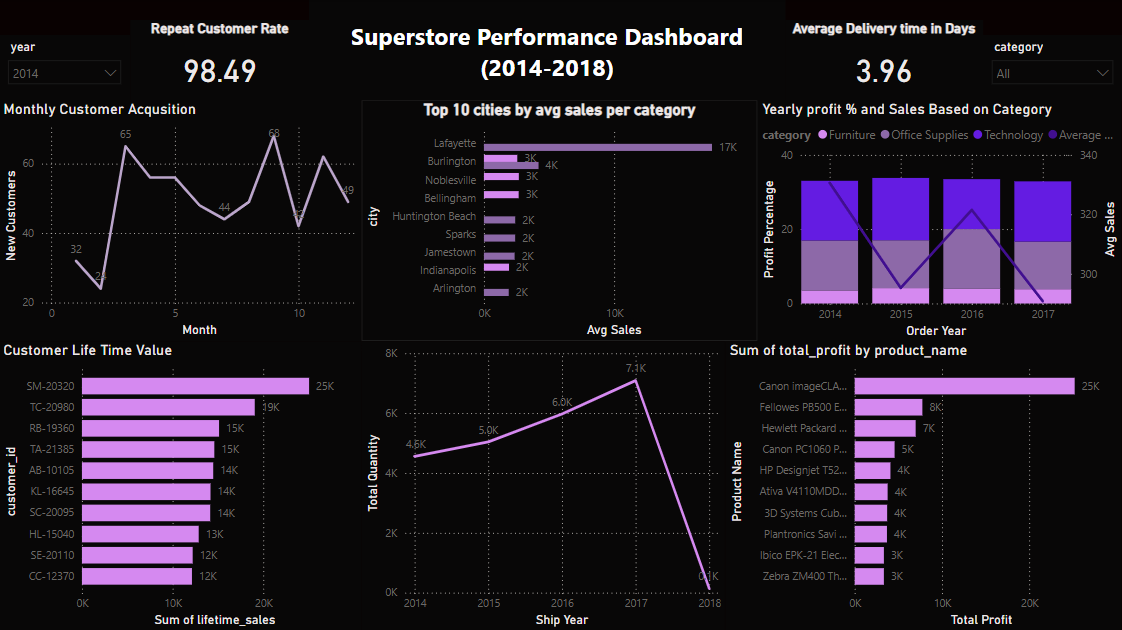

This screenshot's page, from the dashboard's own definition file:
{"tool":"powerbi","page":{"name":"T","canvas":[1280,720],"ordinal":0},"visuals":[{"type":"card","title":"Average Delivery time in Days","fields":{"Values":["Avg(avg_delivery_time.delivery_time)"]},"box":[896.6,22.8,225.2,91.2],"z":0},{"type":"barChart","title":"Customer Life Time Value","fields":{"Category":["customer_lifeyime_value.customer_id"],"Y":["Sum(customer_lifeyime_value.lifetime_sales)"]},"box":[0,389.1,413.4,330.7],"z":1000},{"type":"lineChart","fields":{"Category":["Top Ship Mode by Volume Per Year.ship_year"],"Series":["Top Ship Mode by Volume Per Year.ship_mode"],"Y":["Sum(Top Ship Mode by Volume Per Year.total_quantity)"]},"box":[413.4,389.1,414.8,330.7],"z":2000},{"type":"lineChart","title":"Monthly Customer Acqusition","fields":{"Category":["montlhy new customers.month"],"Y":["Sum(montlhy new customers.new_customers)"]},"box":[0,114,413.4,275.1],"z":3000},{"type":"card","title":"Repeat Customer Rate","fields":{"Values":["Sum(repeat customer rate pct.repeat_customer_rate_pct)"]},"box":[149.6,23.3,204.5,91.9],"z":4000},{"type":"clusteredBarChart","title":"Top 10 cities by avg sales per  category","fields":{"Category":["Top 10 cities by average sales in each category.city"],"Y":["Avg(Top 10 cities by average sales in each category.avg_sales)"],"Series":["Top 10 cities by average sales in each category.category"]},"box":[413.4,114,451.8,275.1],"z":5000},{"type":"clusteredBarChart","fields":{"Category":["Top_10_most_profitable_products.product_name"],"Y":["Sum(Top_10_most_profitable_products.total_profit)"]},"box":[828.2,389.1,451.8,330.7],"z":6000},{"type":"lineStackedColumnComboChart","title":"Yearly profit % and Sales Based on Category","fields":{"Category":["Yearly _sales_based_ON_categorty.order_year"],"Y2":["Avg(Yearly _sales_based_ON_categorty.avg_sales)"],"Series":["Yearly _sales_based_ON_categorty.category"],"Y":["Avg(Yearly _sales_based_ON_categorty.avg_profit_pct)"]},"box":[865.9,113.9,414.4,275.8],"z":7000},{"type":"slicer","fields":{"Values":["Yearly _sales_based_ON_categorty.category"]},"box":[1121.1,39.8,159.2,74.1],"z":8000},{"type":"slicer","fields":{"Values":["montlhy new customers.year"]},"box":[0,39.8,149.6,74.1],"z":9000},{"type":"textbox","box":[353.5,0,543.1,114],"z":10000}]}

Visuals, with their boxes in screenshot pixels (x1, y1, x2, y2), scaled from the page's 1280x720 canvas onto the 1122x630 screenshot:
"Average Delivery time in Days" card: bbox=[786, 20, 983, 100]
"Customer Life Time Value" barChart: bbox=[0, 340, 362, 629]
lineChart - Top Ship Mode by Volume Per Year.ship_year x Top Ship Mode by Volume Per Year.ship_mode: bbox=[362, 340, 726, 629]
"Monthly Customer Acqusition" lineChart: bbox=[0, 100, 362, 340]
"Repeat Customer Rate" card: bbox=[131, 20, 310, 101]
"Top 10 cities by avg sales per  category" clusteredBarChart: bbox=[362, 100, 758, 340]
clusteredBarChart - Top_10_most_profitable_products.product_name x Sum(Top_10_most_profitable_products.total_profit): bbox=[726, 340, 1121, 629]
"Yearly profit % and Sales Based on Category" lineStackedColumnComboChart: bbox=[759, 100, 1121, 341]
slicer - Yearly _sales_based_ON_categorty.category: bbox=[983, 35, 1121, 100]
slicer - montlhy new customers.year: bbox=[0, 35, 131, 100]
textbox: bbox=[310, 0, 786, 100]
